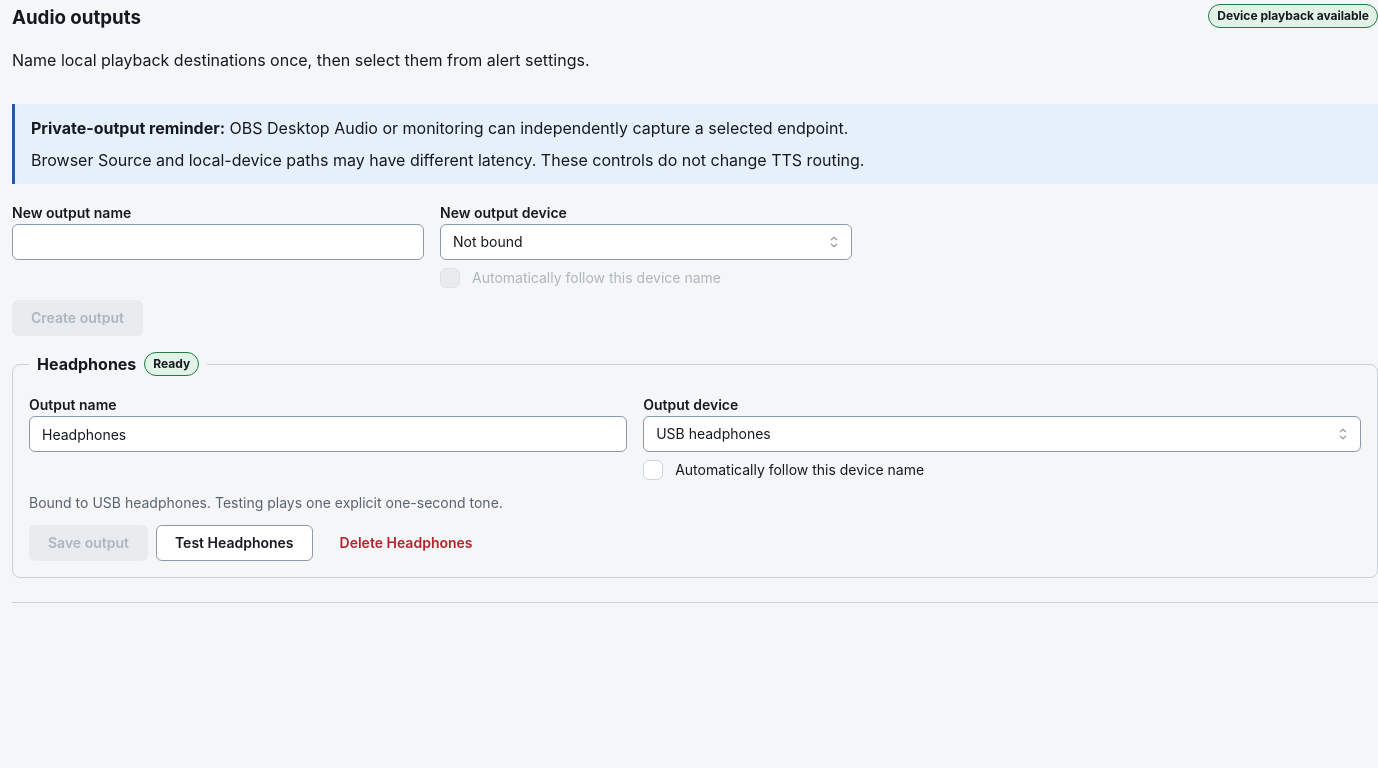
Test case: AudioOutputsPanel › keeps a route draft during polling and marks retained status stale after a refresh failure
Replace the text in the field labelled "Output name" with "Unsaved name" at coordinates (328, 434), box [29,416,627,452]
Wait 4000 ms
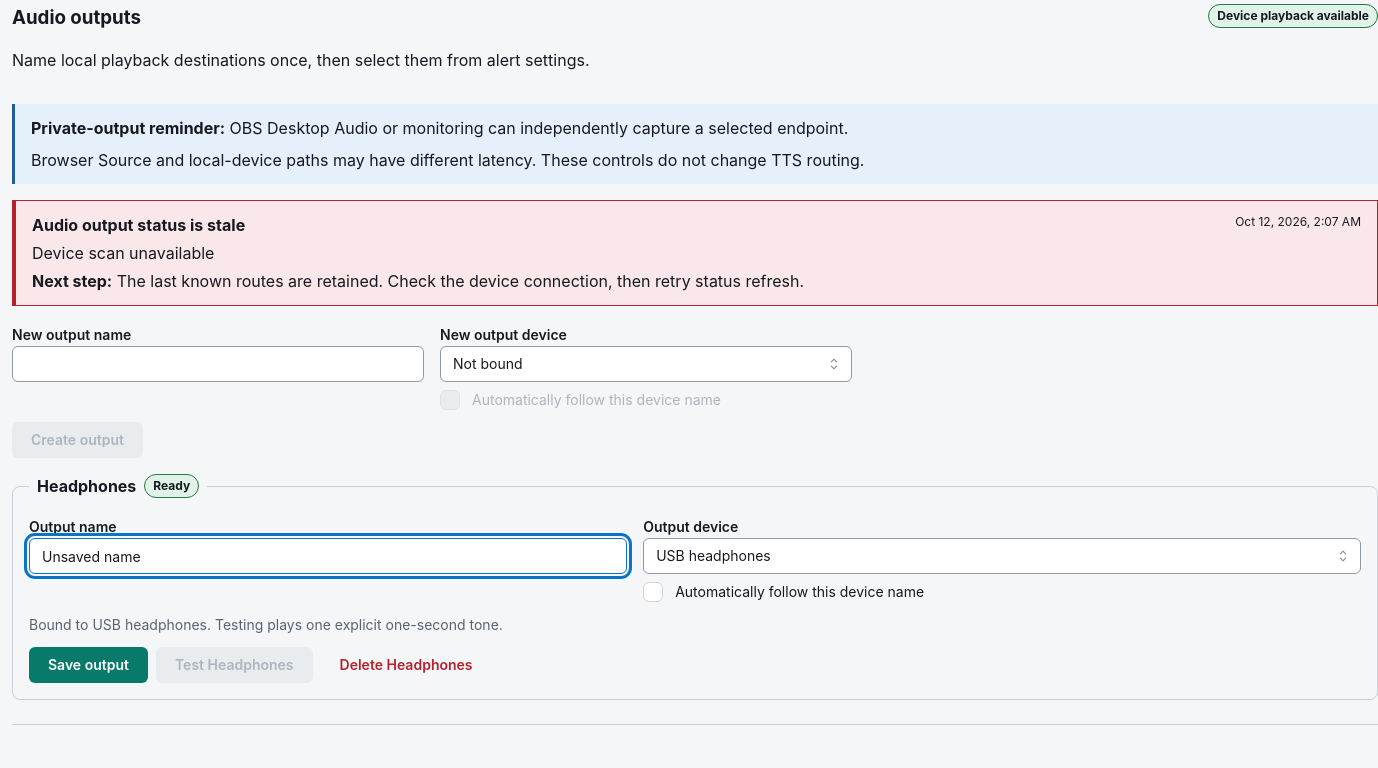
Expected: the text "Ready" is shown, [144,474,199,498]
Expected: the text "Audio output status is stale" is shown, [32,215,245,235]
